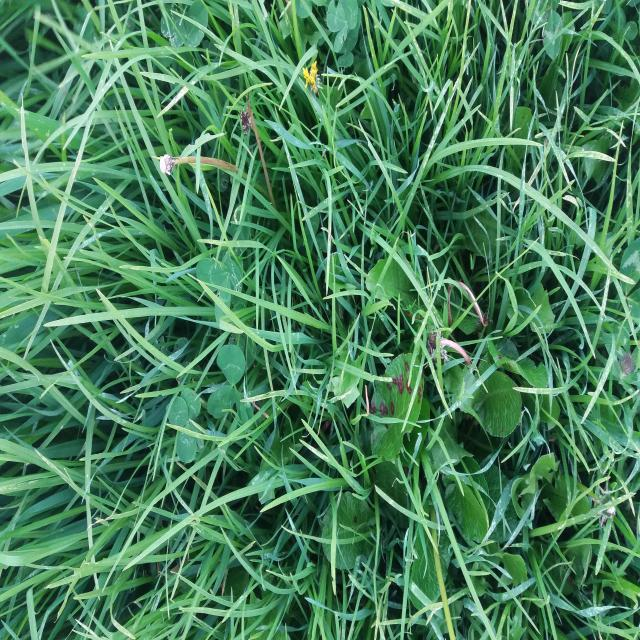Four Leaf Clover: (166, 389, 204, 464)
